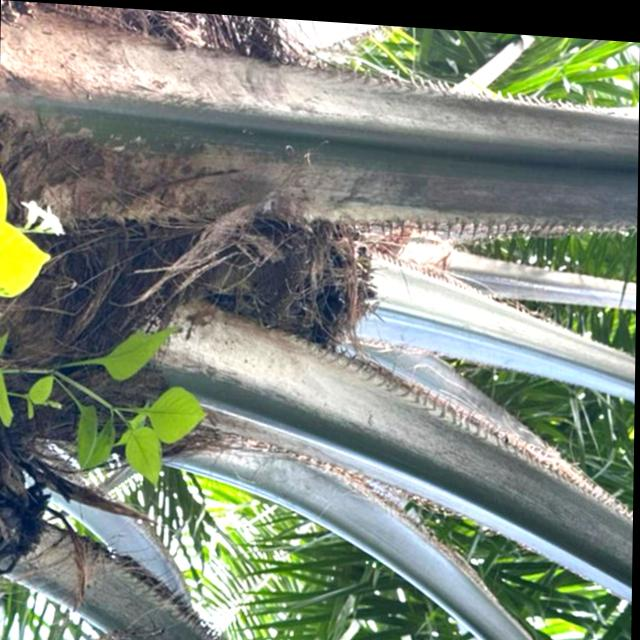unripe: (165, 181, 383, 388)
